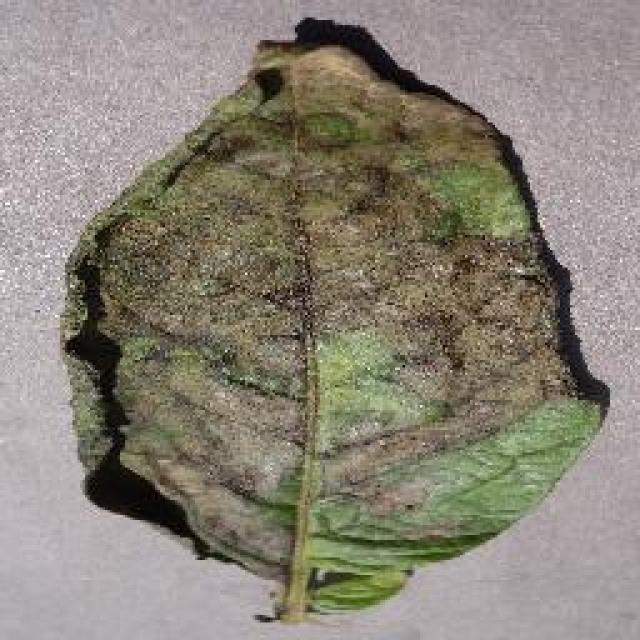late_blight: (55, 15, 613, 623)
